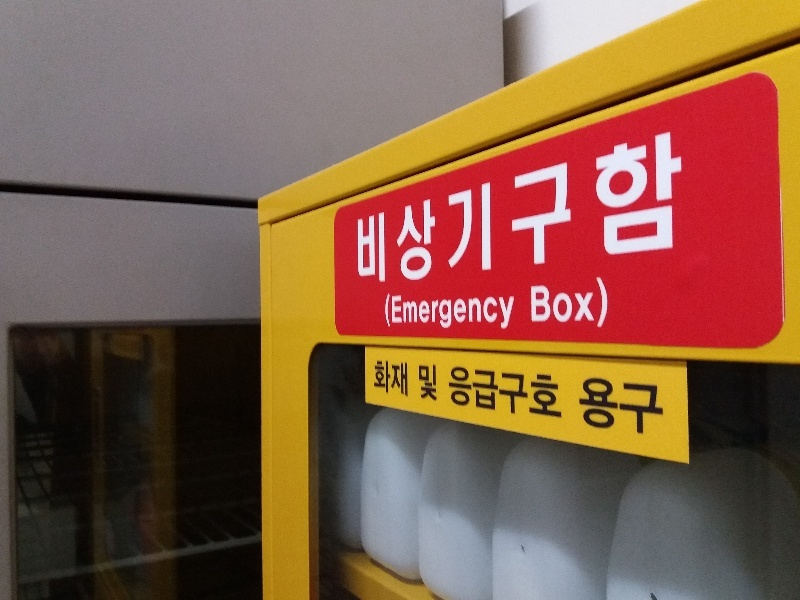text: (369, 127, 384, 290), (385, 127, 400, 290), (401, 127, 416, 290), (417, 127, 432, 290), (433, 127, 448, 290), (449, 127, 464, 290), (465, 127, 480, 290), (481, 127, 496, 290), (497, 127, 512, 290), (513, 127, 528, 290), (529, 127, 544, 290), (545, 127, 560, 290), (561, 127, 576, 290), (577, 127, 592, 290), (593, 127, 608, 290), (609, 127, 624, 290), (625, 127, 640, 290), (641, 127, 656, 290), (657, 127, 672, 290), (356, 127, 368, 290), (673, 127, 685, 290), (593, 376, 608, 438), (609, 376, 624, 438), (625, 376, 640, 438), (641, 376, 656, 438), (578, 376, 592, 438), (593, 276, 609, 329), (449, 365, 464, 420), (465, 365, 480, 420), (481, 365, 496, 420), (497, 365, 512, 420), (513, 365, 528, 420), (529, 365, 544, 420), (545, 365, 560, 420), (529, 276, 544, 329), (545, 276, 560, 329), (561, 276, 576, 329), (577, 276, 592, 329), (385, 359, 400, 397), (385, 293, 400, 331), (401, 293, 416, 331), (417, 293, 432, 331), (433, 293, 448, 331), (449, 293, 464, 331), (465, 293, 480, 331), (481, 293, 496, 331), (497, 293, 512, 331), (418, 364, 432, 402), (657, 376, 664, 438), (374, 359, 384, 397), (401, 359, 409, 397), (433, 364, 438, 402), (513, 293, 516, 331), (561, 365, 563, 420)
